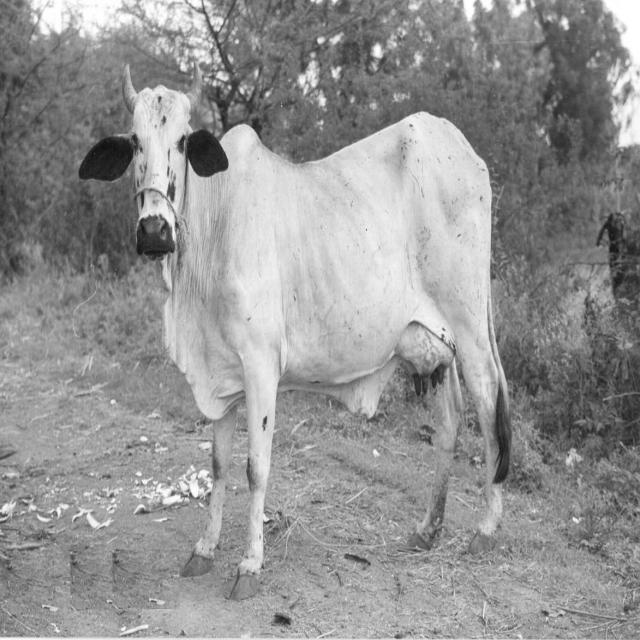Cow: (77, 59, 513, 600)
